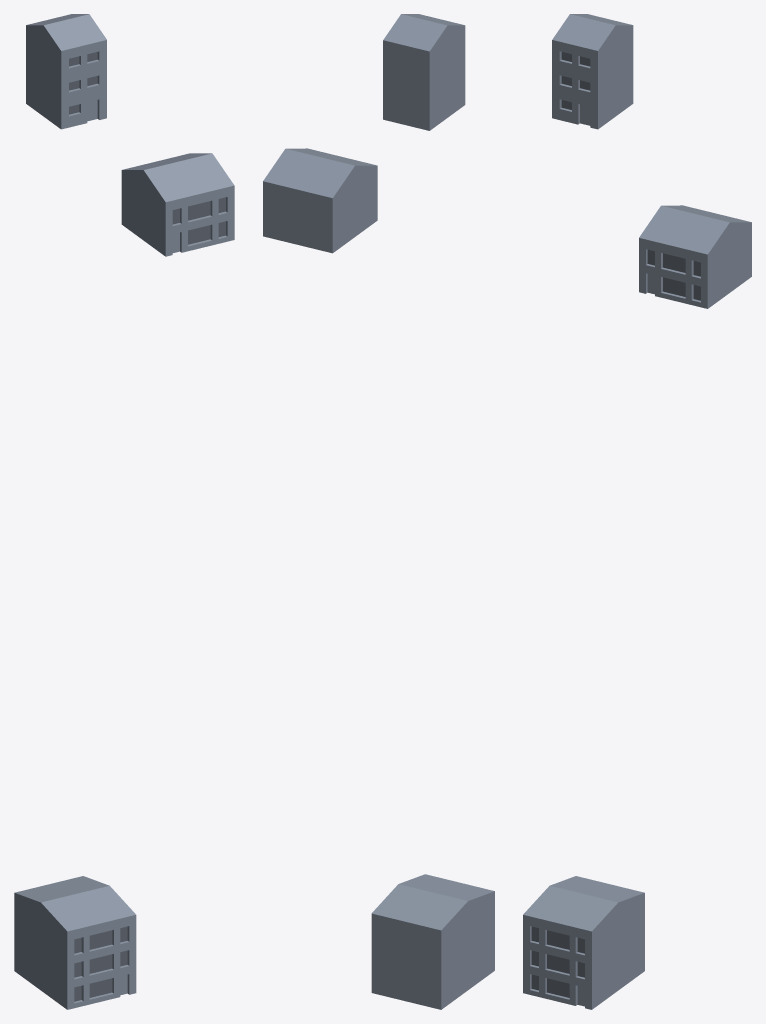
Rendered from Penceregrup4.gltf.
The picture shows the model from 3 angles, left to right: view 1: azimuth 30°, elevation 25°; view 2: azimuth 150°, elevation 25°; view 3: azimuth 330°, elevation 25°; orthographic projection.
Visible parts, largest first — view 1: Building_076.003, Building_078.003, Building_070.003, Building_076.005, Building_078.005; view 2: Building_076.003, Building_078.003, Building_070.003; view 3: Building_076.003, Building_078.003, Building_070.003, Building_076.005, Building_078.005.
Boxes of the visible parts, <box> form: Building_076.003: <box>14,876,136,1009</box>; Building_078.003: <box>121,153,234,256</box>; Building_070.003: <box>26,14,106,129</box>; Building_076.005: <box>74,926,127,1001</box>; Building_078.005: <box>172,197,225,244</box>; Building_076.003: <box>371,874,494,1009</box>; Building_078.003: <box>263,148,377,253</box>; Building_070.003: <box>383,14,465,130</box>; Building_076.003: <box>523,876,644,1009</box>; Building_078.003: <box>639,205,751,308</box>; Building_070.003: <box>552,14,633,129</box>; Building_076.005: <box>531,926,584,997</box>; Building_078.005: <box>647,249,700,300</box>.
Size of the model in its own units: 0.125 by 0.6489 by 0.0652.
